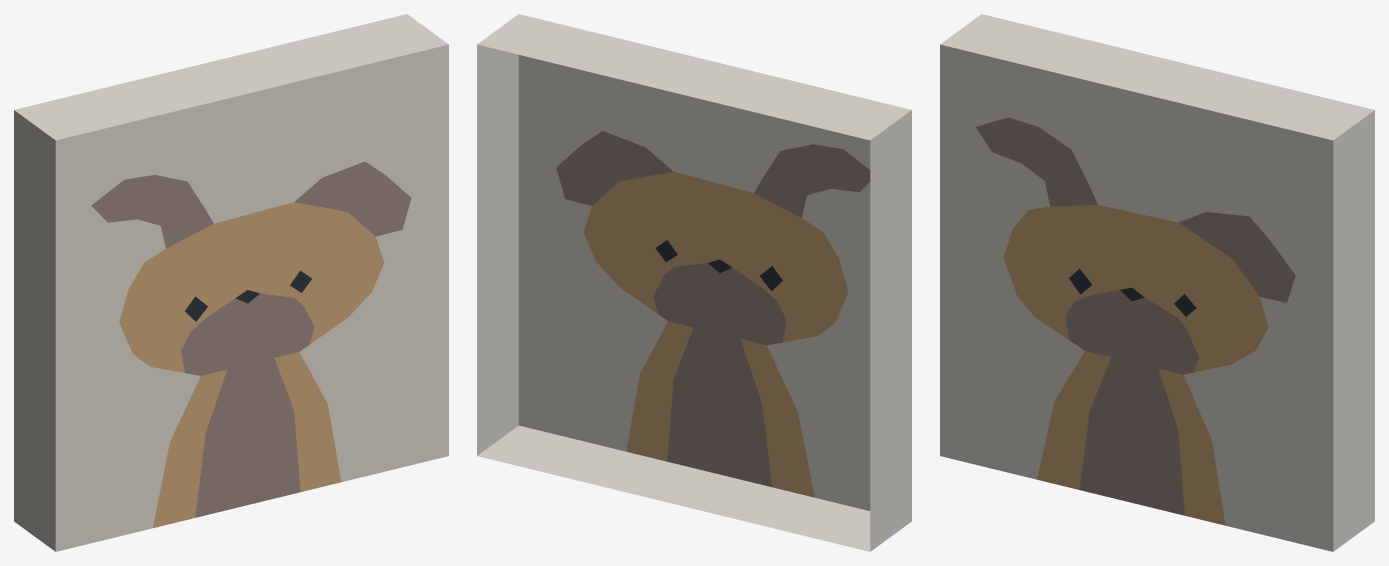
The model's file is SO_picture03.fbx.
3 views of the same model, side by side, from view 1: azimuth 30°, elevation 25°; view 2: azimuth 150°, elevation 25°; view 3: azimuth 330°, elevation 25° (orthographic).
Parts seen in each view (by area): view 1: SO_pictures03; view 2: SO_pictures03; view 3: SO_pictures03.
Boxes of the visible parts, x1,y1,x2,y2 form: SO_pictures03: (14, 14, 448, 551); SO_pictures03: (477, 14, 911, 551); SO_pictures03: (940, 14, 1374, 551).
Size of the model in its own units: 42.2 by 42.2 by 7.76.
